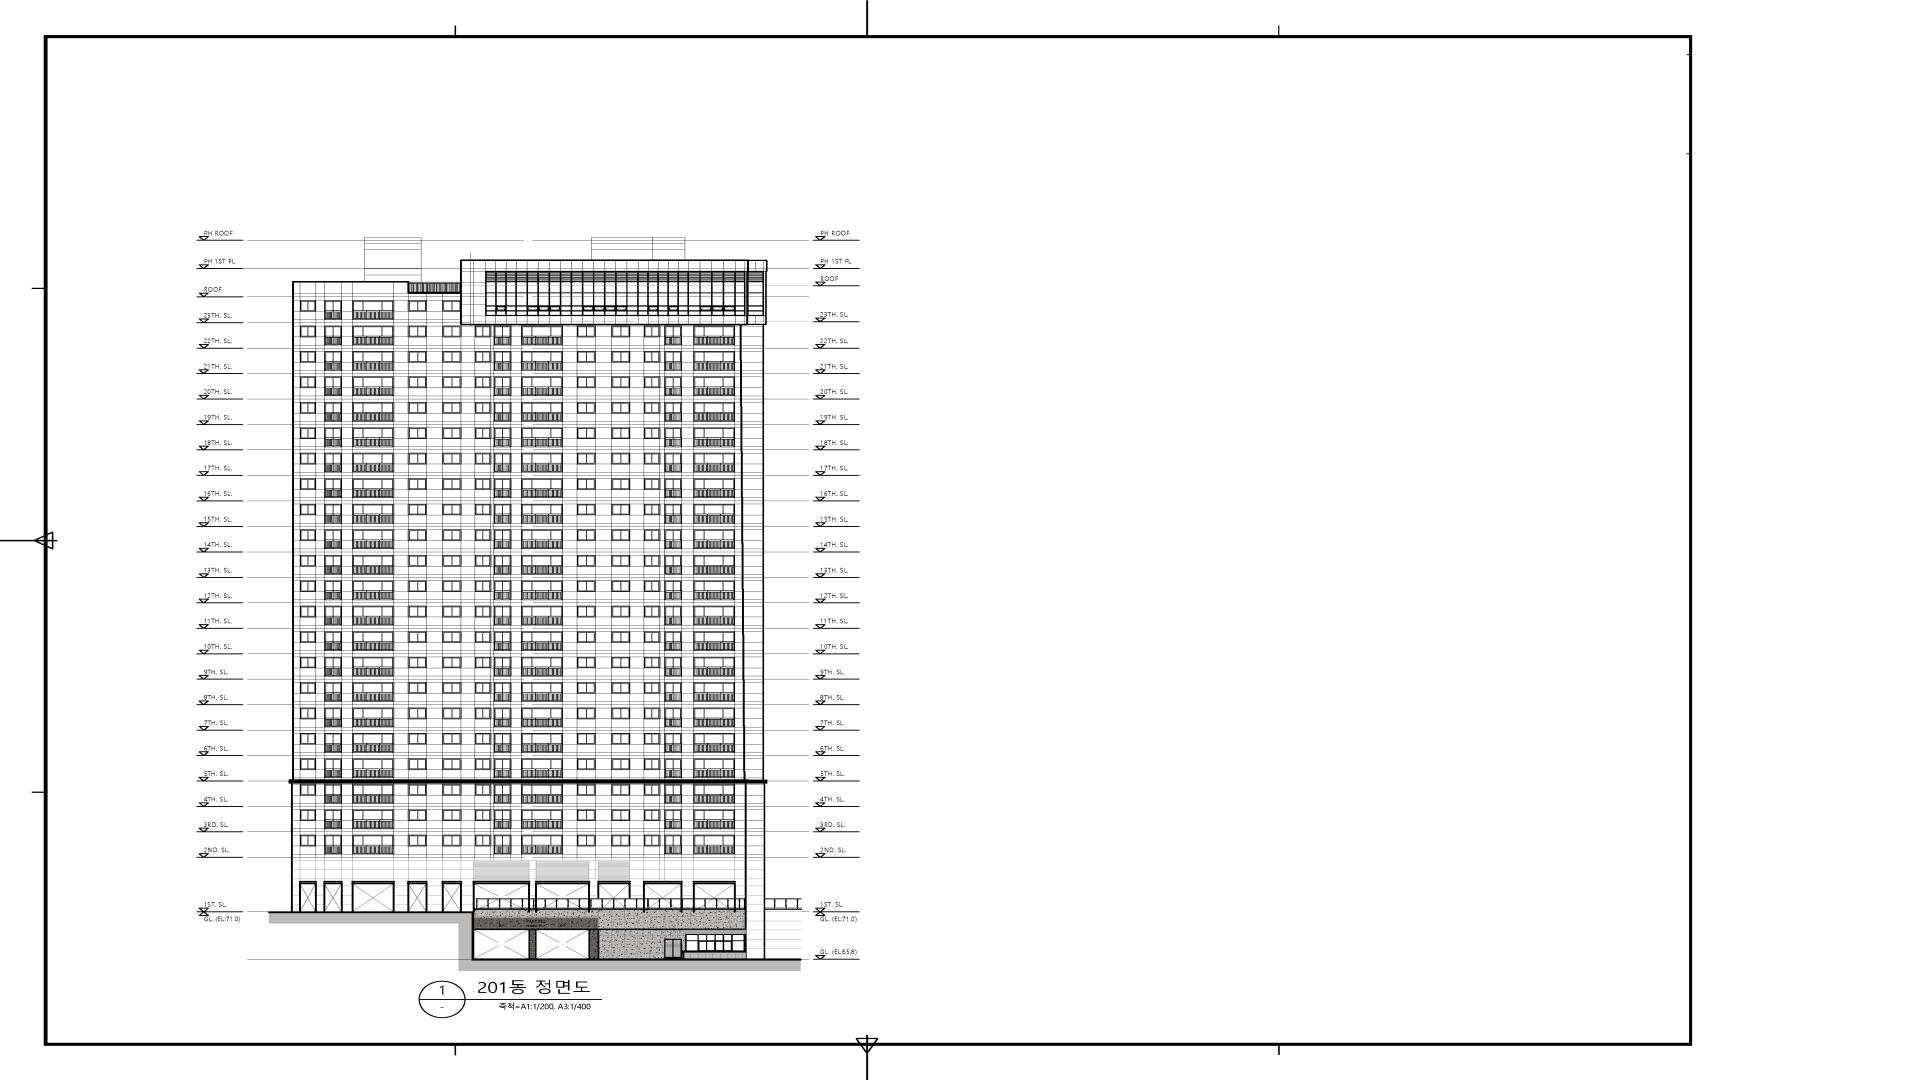door: (472, 928, 530, 960), (535, 928, 591, 960), (473, 882, 530, 910), (535, 882, 589, 910), (352, 882, 394, 913), (692, 882, 736, 910), (644, 882, 683, 910), (597, 882, 630, 910), (323, 882, 343, 913), (407, 882, 427, 913), (442, 882, 462, 913), (299, 882, 316, 913)
wall: (291, 237, 767, 960)
window: (352, 835, 394, 855), (352, 810, 394, 829), (352, 783, 394, 803), (352, 758, 394, 778), (352, 733, 394, 753), (352, 682, 394, 702), (352, 657, 394, 676), (352, 632, 394, 651), (352, 580, 394, 600), (352, 555, 394, 575), (352, 529, 394, 549), (352, 504, 394, 524), (352, 479, 394, 498), (352, 452, 394, 472), (352, 427, 394, 447), (352, 402, 394, 422), (352, 351, 394, 371), (352, 326, 394, 345), (352, 301, 394, 320), (521, 835, 563, 855), (521, 810, 563, 829), (521, 783, 563, 803), (521, 758, 563, 778), (521, 733, 563, 753), (521, 682, 563, 702), (521, 657, 563, 676), (521, 632, 563, 651), (521, 605, 563, 625), (521, 580, 563, 600), (521, 555, 563, 575), (521, 504, 563, 524), (521, 479, 563, 498), (521, 452, 563, 472), (521, 427, 563, 447), (521, 402, 563, 422), (521, 376, 563, 396), (521, 351, 563, 371), (521, 326, 563, 345), (694, 835, 736, 855), (694, 810, 736, 829), (694, 758, 736, 778), (694, 733, 736, 753), (694, 682, 736, 702), (694, 657, 736, 676), (694, 632, 736, 651), (694, 605, 736, 625), (694, 580, 736, 600), (694, 555, 736, 575), (694, 504, 736, 524), (694, 479, 736, 498), (694, 452, 736, 472), (694, 427, 736, 447), (694, 402, 736, 422), (694, 351, 736, 371), (694, 326, 736, 345), (352, 708, 394, 727), (352, 607, 394, 625), (352, 377, 394, 396), (521, 708, 563, 727), (521, 530, 563, 549), (694, 785, 736, 803), (694, 708, 736, 727), (694, 530, 736, 549), (694, 377, 736, 396), (493, 758, 512, 778), (493, 733, 512, 753), (493, 708, 512, 728), (493, 682, 512, 702), (493, 657, 512, 676), (493, 632, 512, 651), (493, 605, 512, 625), (493, 580, 512, 600), (493, 555, 512, 575), (493, 504, 512, 524), (493, 479, 512, 498), (493, 452, 512, 472), (493, 427, 512, 447), (493, 402, 512, 422), (493, 376, 512, 396), (493, 351, 512, 371), (493, 326, 512, 345), (493, 835, 512, 855), (493, 810, 512, 829), (748, 293, 764, 315), (493, 530, 512, 549), (493, 785, 512, 803), (665, 835, 682, 855), (665, 810, 682, 829), (665, 758, 682, 778), (665, 733, 682, 753), (665, 682, 682, 702), (665, 657, 682, 676), (665, 632, 682, 651), (665, 605, 682, 625), (665, 580, 682, 600), (665, 555, 682, 575), (665, 529, 682, 549), (665, 504, 682, 524), (665, 479, 682, 498), (665, 452, 682, 472), (665, 427, 682, 447), (324, 835, 342, 855), (324, 810, 342, 829), (324, 783, 342, 803), (324, 758, 342, 778), (324, 733, 342, 753), (324, 708, 342, 728), (324, 682, 342, 702), (324, 657, 342, 676), (324, 632, 342, 651), (324, 605, 342, 625), (324, 580, 342, 600), (324, 555, 342, 575), (324, 529, 342, 549), (324, 504, 342, 524), (324, 479, 342, 498), (324, 452, 342, 472), (324, 427, 342, 447), (324, 402, 342, 422), (324, 376, 342, 396), (324, 351, 342, 371), (324, 326, 342, 345), (324, 301, 342, 320), (665, 402, 682, 422), (665, 376, 682, 396), (665, 351, 682, 371), (665, 326, 682, 345), (665, 785, 682, 803), (665, 708, 682, 727), (688, 293, 700, 315), (700, 293, 712, 315), (723, 293, 735, 315), (485, 293, 496, 315), (560, 293, 571, 315), (678, 293, 688, 315), (735, 293, 745, 315), (496, 293, 506, 315), (527, 293, 538, 315), (538, 293, 549, 315), (550, 293, 560, 315), (583, 293, 593, 315), (605, 293, 616, 315), (616, 293, 626, 315), (647, 293, 658, 315), (667, 293, 678, 315), (712, 293, 723, 315), (407, 783, 427, 795), (407, 758, 427, 770), (407, 733, 427, 745), (407, 682, 427, 694), (407, 580, 427, 592), (407, 555, 427, 567), (407, 529, 427, 541), (407, 504, 427, 516), (407, 452, 427, 464), (407, 427, 427, 439), (407, 402, 427, 414), (407, 351, 427, 363), (442, 835, 462, 847), (442, 810, 462, 822), (442, 783, 462, 795), (442, 758, 462, 770), (442, 733, 462, 745), (442, 682, 462, 694), (442, 657, 462, 669), (442, 605, 462, 617), (442, 580, 462, 592), (442, 555, 462, 567), (442, 529, 462, 541), (442, 504, 462, 516), (442, 479, 462, 491), (576, 605, 596, 617), (576, 580, 596, 592), (576, 555, 596, 567), (576, 504, 596, 516), (576, 452, 596, 464), (576, 427, 596, 439), (576, 402, 596, 414), (576, 351, 596, 363), (576, 326, 596, 338), (611, 758, 630, 770), (611, 708, 630, 720), (611, 682, 630, 694), (611, 555, 630, 567), (611, 452, 630, 464), (611, 326, 630, 338), (407, 835, 427, 847), (442, 452, 462, 464), (442, 427, 462, 439), (442, 402, 462, 414), (442, 376, 462, 388), (442, 351, 462, 363), (442, 326, 462, 338), (576, 783, 596, 795), (407, 657, 426, 669), (407, 632, 426, 644), (407, 605, 426, 617), (407, 479, 426, 491), (407, 376, 426, 388), (407, 326, 426, 338), (578, 657, 596, 669), (612, 835, 630, 847), (612, 810, 630, 822), (612, 733, 630, 745), (612, 657, 630, 669), (612, 605, 630, 617), (612, 580, 630, 592), (612, 529, 630, 541), (612, 504, 630, 516), (612, 427, 630, 439), (612, 402, 630, 414), (612, 351, 630, 363), (572, 293, 582, 316), (407, 810, 426, 822), (578, 835, 596, 847), (578, 810, 596, 822), (578, 758, 596, 770), (578, 733, 596, 745), (578, 682, 596, 694), (407, 708, 427, 719), (407, 301, 427, 311), (442, 708, 462, 719), (442, 632, 462, 642), (576, 530, 596, 541), (576, 377, 596, 388), (611, 632, 630, 642), (442, 301, 462, 311), (732, 935, 745, 951), (506, 293, 516, 315), (517, 293, 526, 315), (628, 293, 637, 315), (638, 293, 647, 315), (658, 293, 667, 315), (595, 293, 604, 315), (299, 835, 316, 847), (299, 810, 316, 822), (299, 783, 316, 795), (299, 758, 316, 770), (299, 733, 316, 745), (299, 682, 316, 694), (299, 657, 316, 669), (299, 605, 316, 617), (299, 580, 316, 592), (299, 555, 316, 567), (299, 529, 316, 541), (299, 504, 316, 516), (299, 452, 316, 464), (299, 427, 316, 439), (299, 376, 316, 388), (299, 351, 316, 363), (299, 326, 316, 338), (644, 835, 661, 847), (644, 810, 661, 822), (644, 783, 661, 795), (644, 758, 661, 770), (644, 733, 661, 745), (644, 682, 661, 694), (644, 657, 661, 669), (644, 632, 661, 644), (644, 605, 661, 617), (644, 580, 661, 592), (644, 555, 661, 567), (644, 529, 661, 541), (644, 504, 661, 516), (644, 479, 661, 491), (644, 452, 661, 464), (644, 427, 661, 439), (644, 402, 661, 414), (644, 376, 661, 388), (644, 351, 661, 363), (644, 326, 661, 338), (475, 835, 492, 847), (475, 810, 492, 822), (475, 783, 492, 795), (475, 758, 492, 770), (475, 733, 492, 745), (475, 682, 492, 694), (475, 657, 492, 669), (475, 632, 492, 644), (475, 605, 492, 617), (475, 555, 492, 567), (475, 504, 492, 516), (475, 452, 492, 464), (475, 427, 492, 439), (475, 402, 492, 414), (475, 376, 492, 388), (475, 351, 492, 363), (475, 326, 492, 338), (686, 934, 698, 951), (578, 632, 596, 642), (578, 479, 596, 489), (612, 785, 630, 795), (612, 479, 630, 489), (612, 377, 630, 388), (578, 708, 596, 719), (475, 580, 491, 592), (673, 939, 682, 959), (299, 708, 316, 719), (299, 632, 316, 642), (299, 479, 316, 489), (299, 402, 316, 413), (299, 301, 316, 311), (644, 708, 661, 719), (475, 708, 492, 719), (475, 479, 492, 489), (475, 530, 491, 541), (698, 934, 707, 951), (715, 934, 724, 951), (665, 939, 673, 959), (707, 934, 715, 951), (724, 934, 732, 951)
